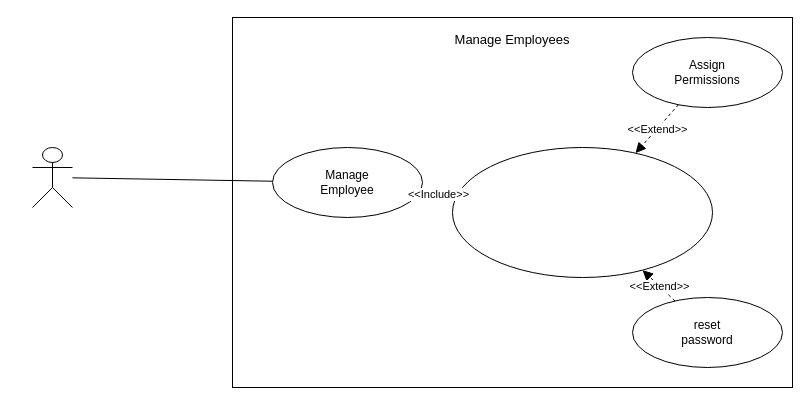
Image size: 810x405. Some labels were removed from this diagram. Here are the shapes that lost their labels. From the top down, the centre of each, then its label:
At point 52,177: "Administrator".
At point 582,212: "Validate information extension points Assign Permissions reset password".
